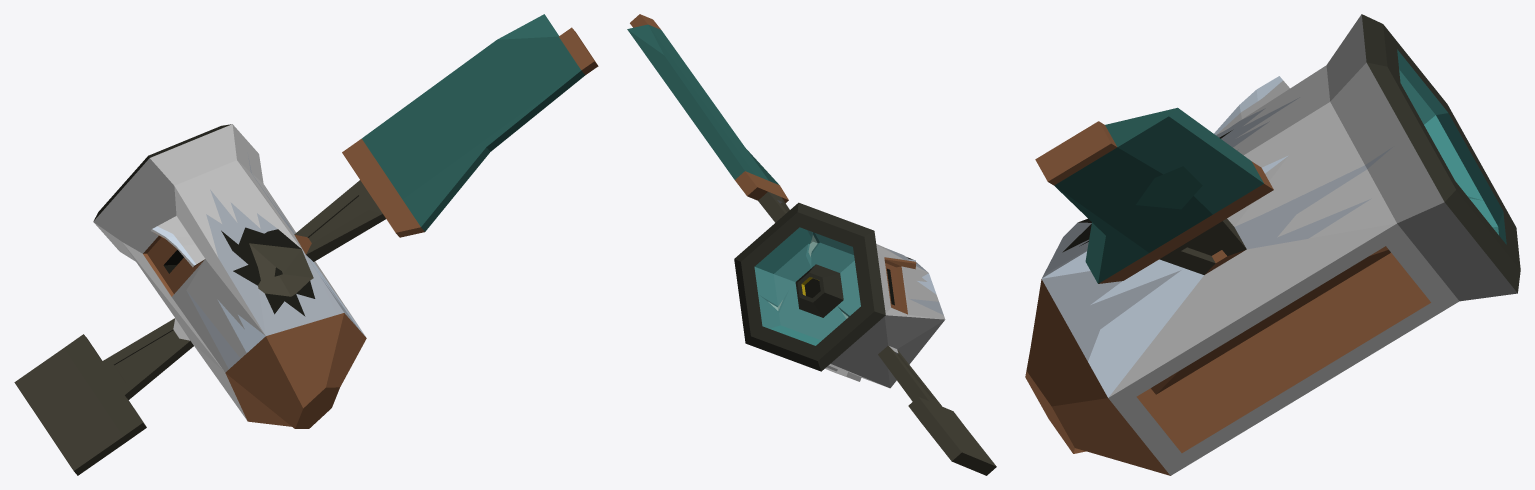
File: crashed_satellite.glb
3 renders of one model, left to right at view 1: azimuth 30°, elevation 25°; view 2: azimuth 150°, elevation 25°; view 3: azimuth 270°, elevation 25°, orthographic. The views are drawn at different scales.
Visible parts, largest first — view 1: Cylinder; view 2: Cylinder; view 3: Cylinder.
Part boxes in pixels (x1,y1,x2,y2): Cylinder: (14, 14, 598, 475); Cylinder: (627, 14, 996, 475); Cylinder: (1025, 14, 1520, 475).
Size of the model in its own units: 7.8 by 5.95 by 4.21.
Materials: 1 (1 with a texture image).
